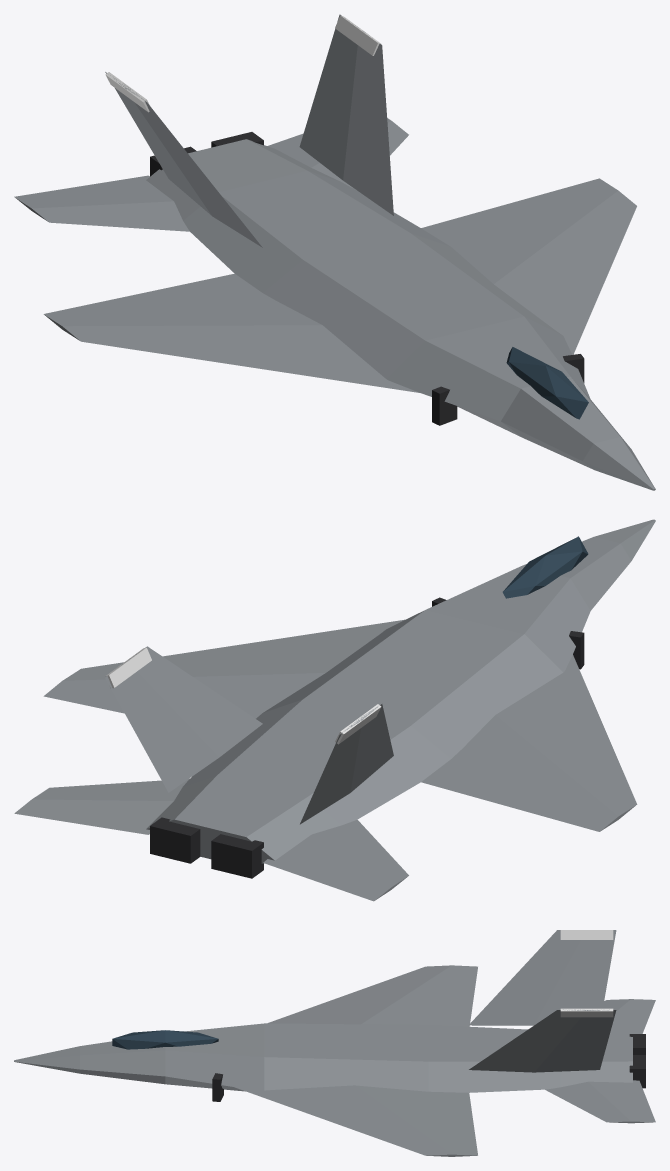
File: fighter_stealth.glb
The picture shows the model from 3 angles, top to bottom: view 1: azimuth 30°, elevation 25°; view 2: azimuth 150°, elevation 25°; view 3: azimuth 270°, elevation 25°; orthographic projection. The views are drawn at different scales.
Parts seen in each view (by area): view 1: Body; view 2: Body; view 3: Body.
Part boxes in pixels (x1,y1,x2,y2): Body: [14, 14, 655, 490]; Body: [14, 519, 655, 901]; Body: [14, 930, 655, 1156].
Bounding box in the file's own units: 13.6 × 3.64 × 19.5.
